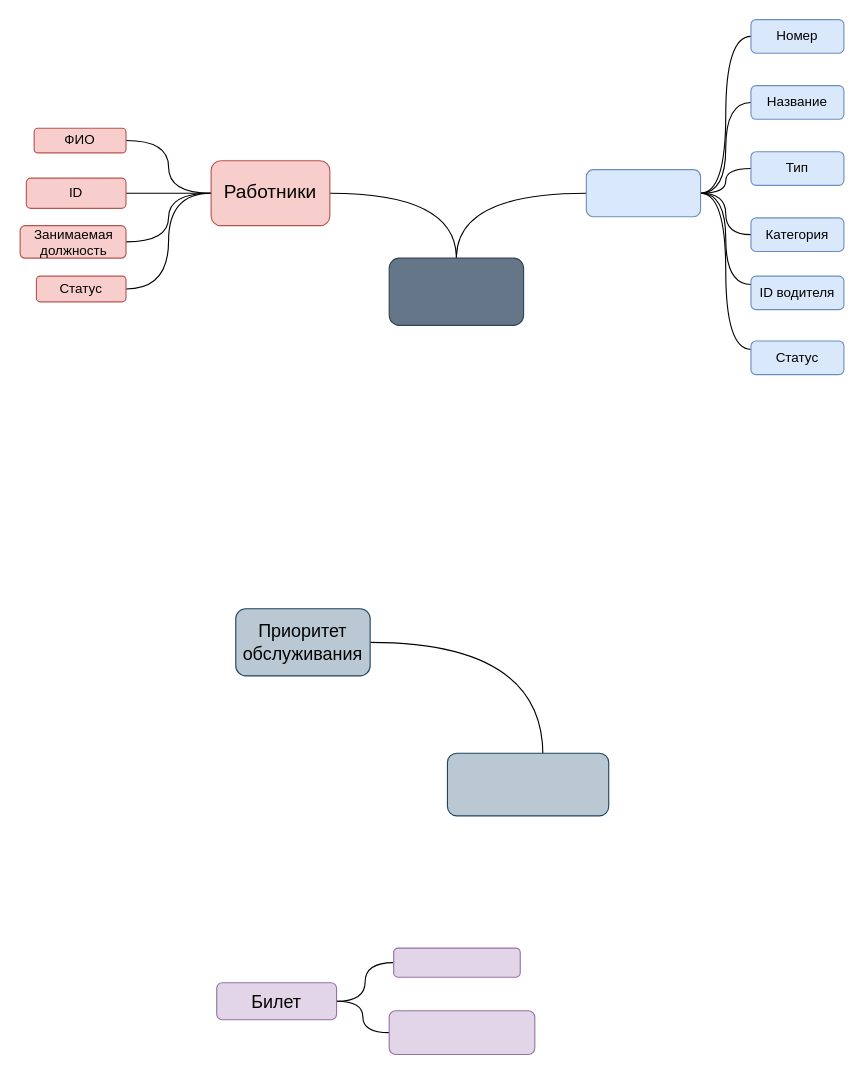
The diagram is 864 pixels wide and 1074 high, and some of its shapes have lost their labels. The shapes that lost their labels are listed below. From the top down, each one's centre as x and y in pixels, then its label:
At point 643,193: "Транспорт".
At point 456,291: "Служба обслуживания".
At point 527,784: "Регистрационный номер самолёта".
At point 456,962: "Категория билета".
At point 461,1032: "Багаж, доступный к провозу".
